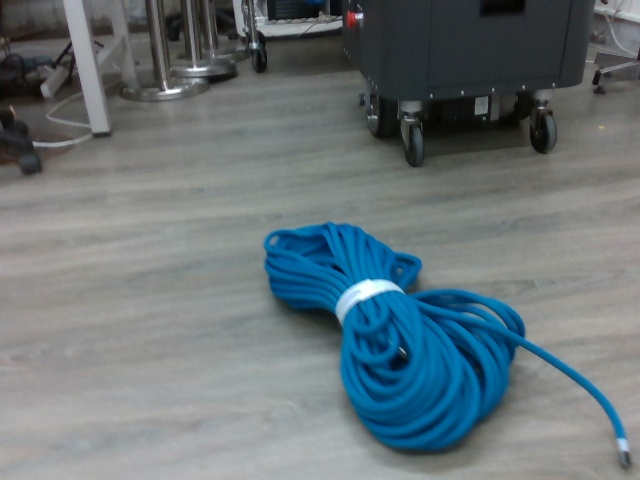rope: (259, 221, 634, 473)
